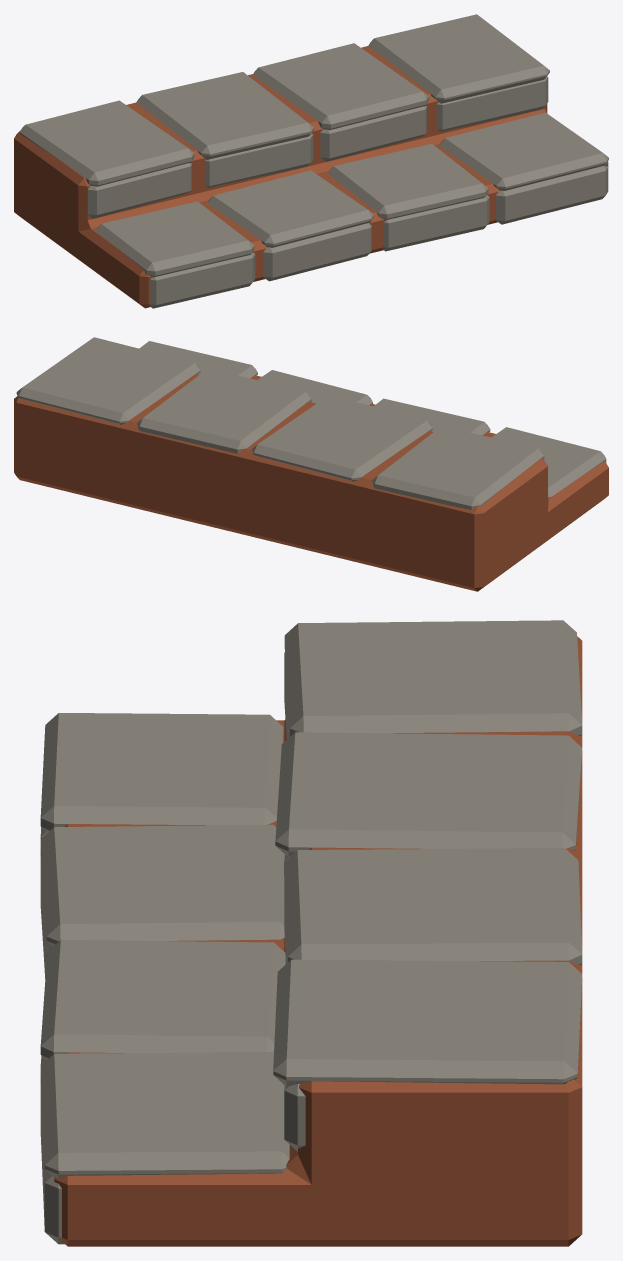
Rendered from laterite_steps.glb.
3 views of the same model, one above another, from view 1: azimuth 30°, elevation 25°; view 2: azimuth 150°, elevation 25°; view 3: azimuth 270°, elevation 25° (orthographic). The views are drawn at different scales.
Visible parts, largest first — view 1: laterite_steps; view 2: laterite_steps; view 3: laterite_steps.
Boxes of the visible parts, x1,y1,x2,y2 form: laterite_steps: (14, 14, 608, 308); laterite_steps: (14, 337, 608, 591); laterite_steps: (40, 620, 582, 1246).
Size of the model in its own units: 1.6 by 0.3 by 0.8.
